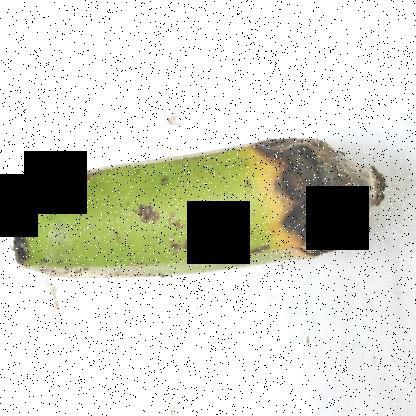unripe: (14, 128, 250, 306)
